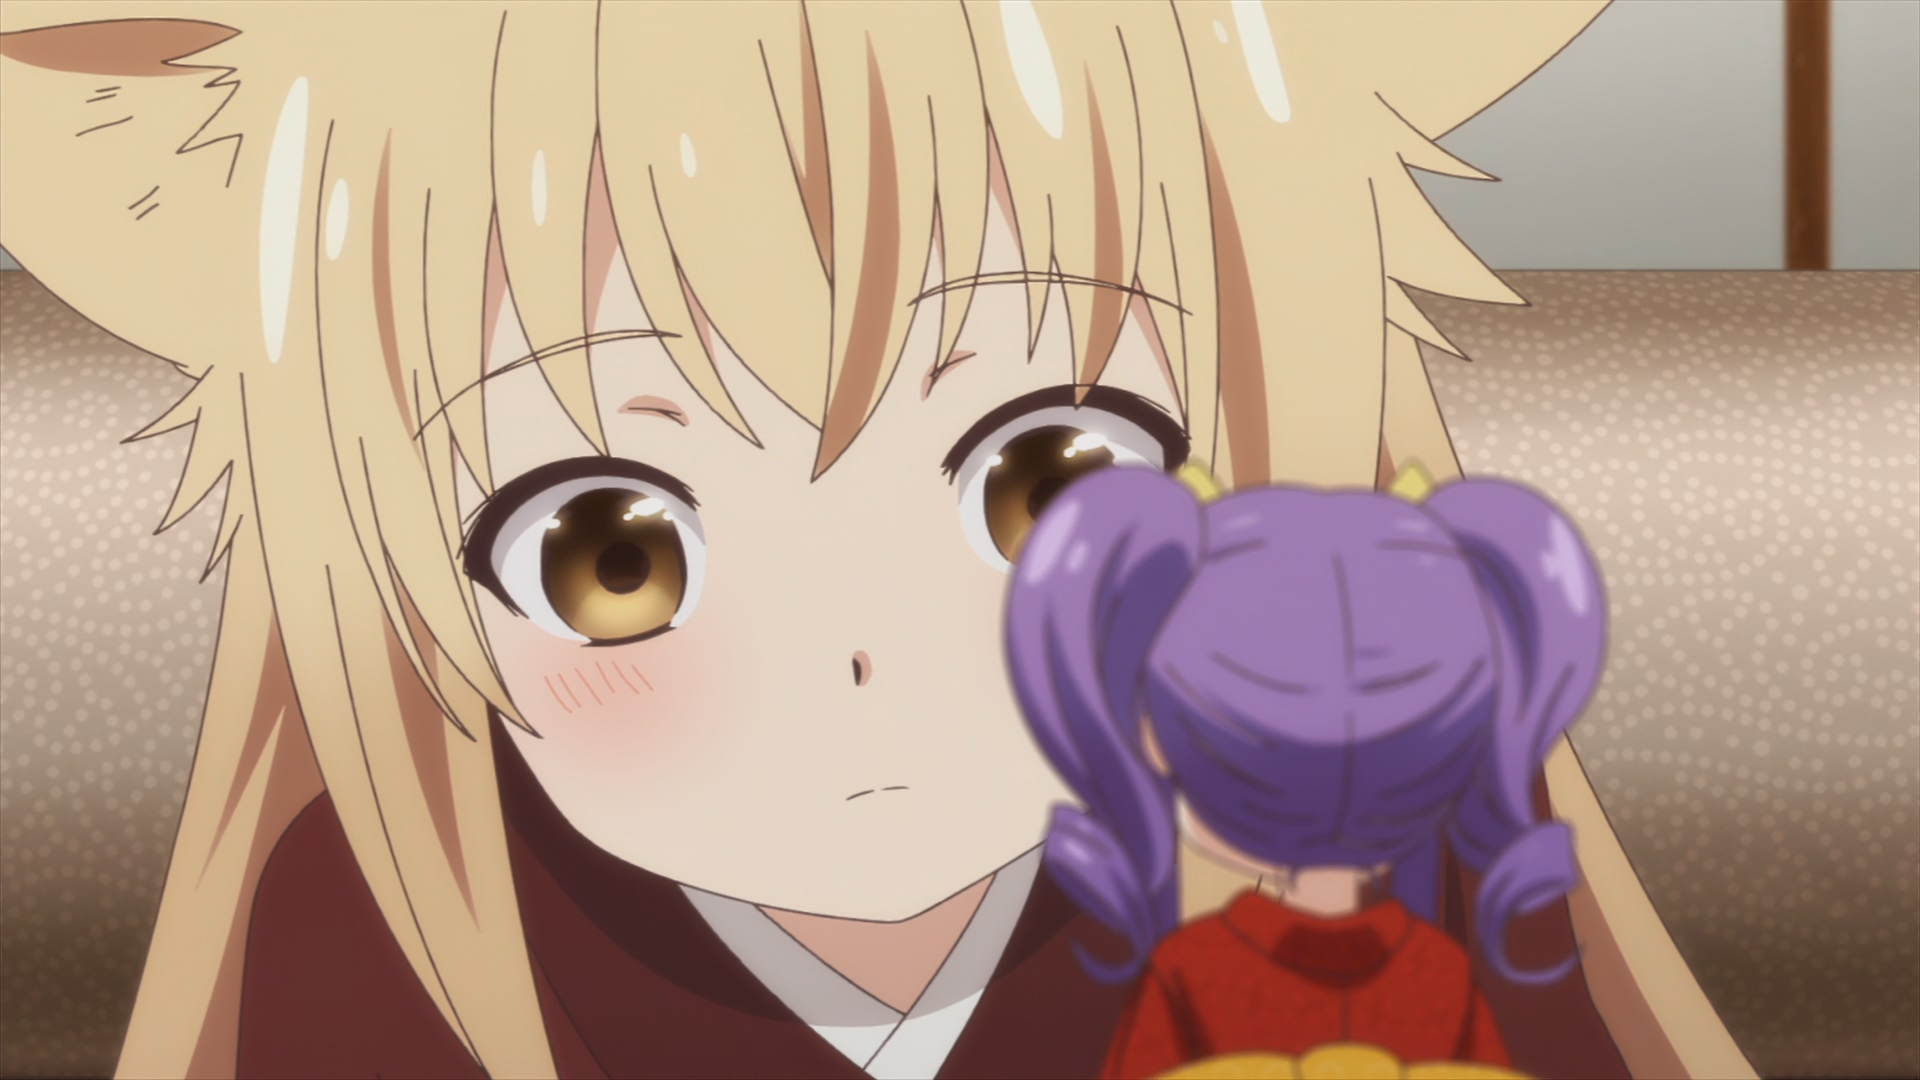柚: (1, 1, 1760, 1080)
阿菊: (1004, 462, 1609, 1080)
